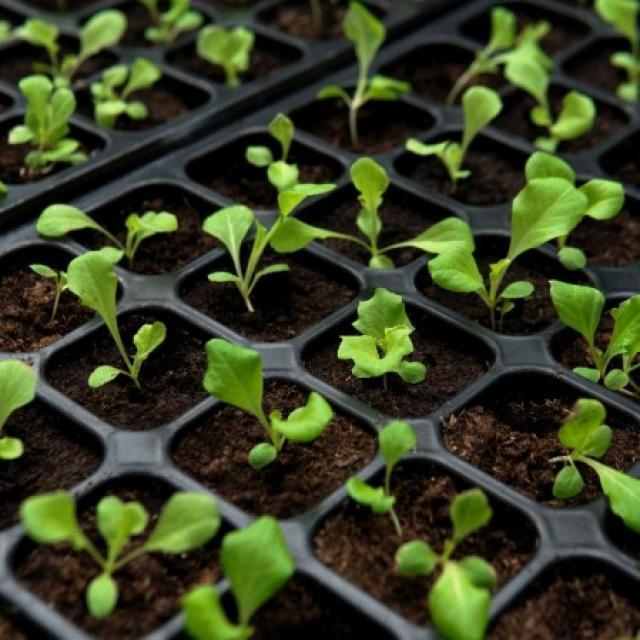Lettuce-Not-Ready-to-Harvest: (6, 486, 230, 611), (429, 197, 578, 330), (287, 163, 477, 264), (388, 491, 515, 637), (61, 254, 182, 400), (203, 338, 337, 462), (305, 0, 408, 140), (212, 187, 320, 318), (552, 395, 640, 538), (44, 191, 188, 274), (440, 11, 559, 101), (513, 47, 608, 153), (530, 158, 629, 259), (408, 92, 514, 181), (550, 281, 640, 382), (0, 9, 121, 83), (0, 79, 95, 170), (338, 305, 431, 394), (348, 423, 402, 539), (247, 112, 306, 209), (92, 60, 164, 129), (200, 29, 267, 94)
